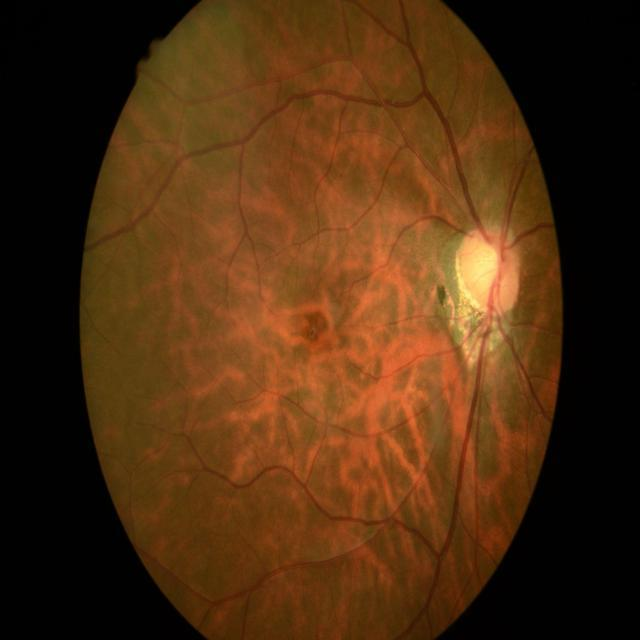cup: (464, 238, 506, 308)
disk: (454, 224, 522, 315)
